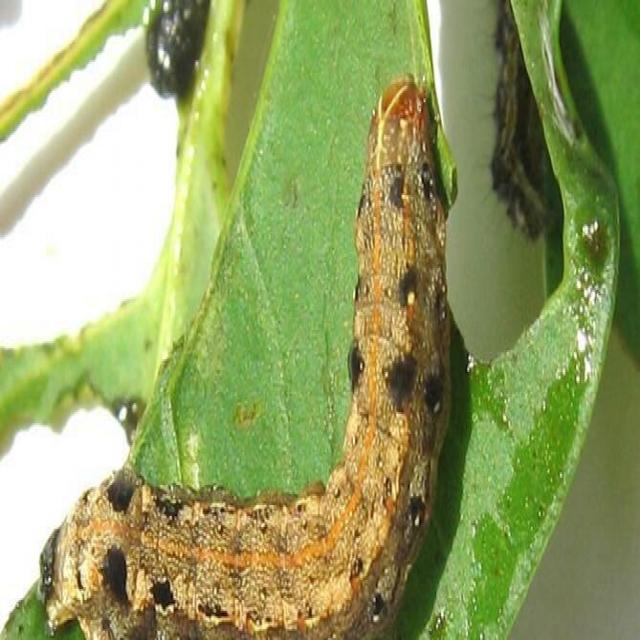BeetArmyWorm-Larva-: (37, 69, 456, 638)
